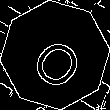O_NE: (22, 22, 88, 88)
